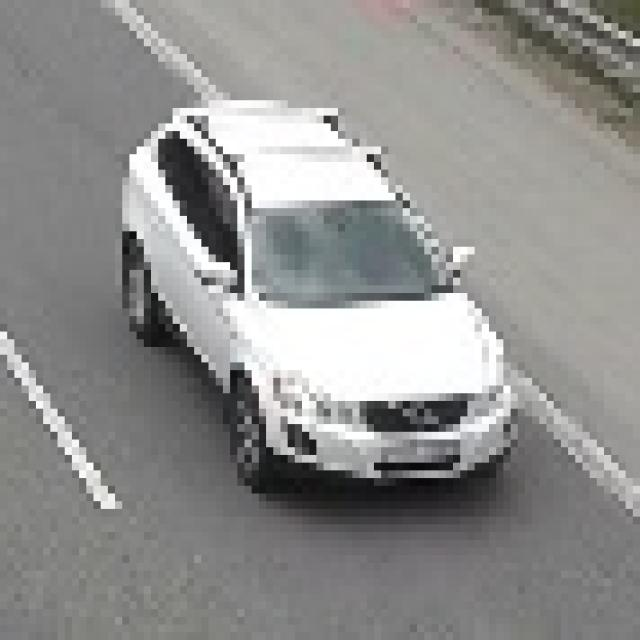SUV: (118, 106, 502, 505)
